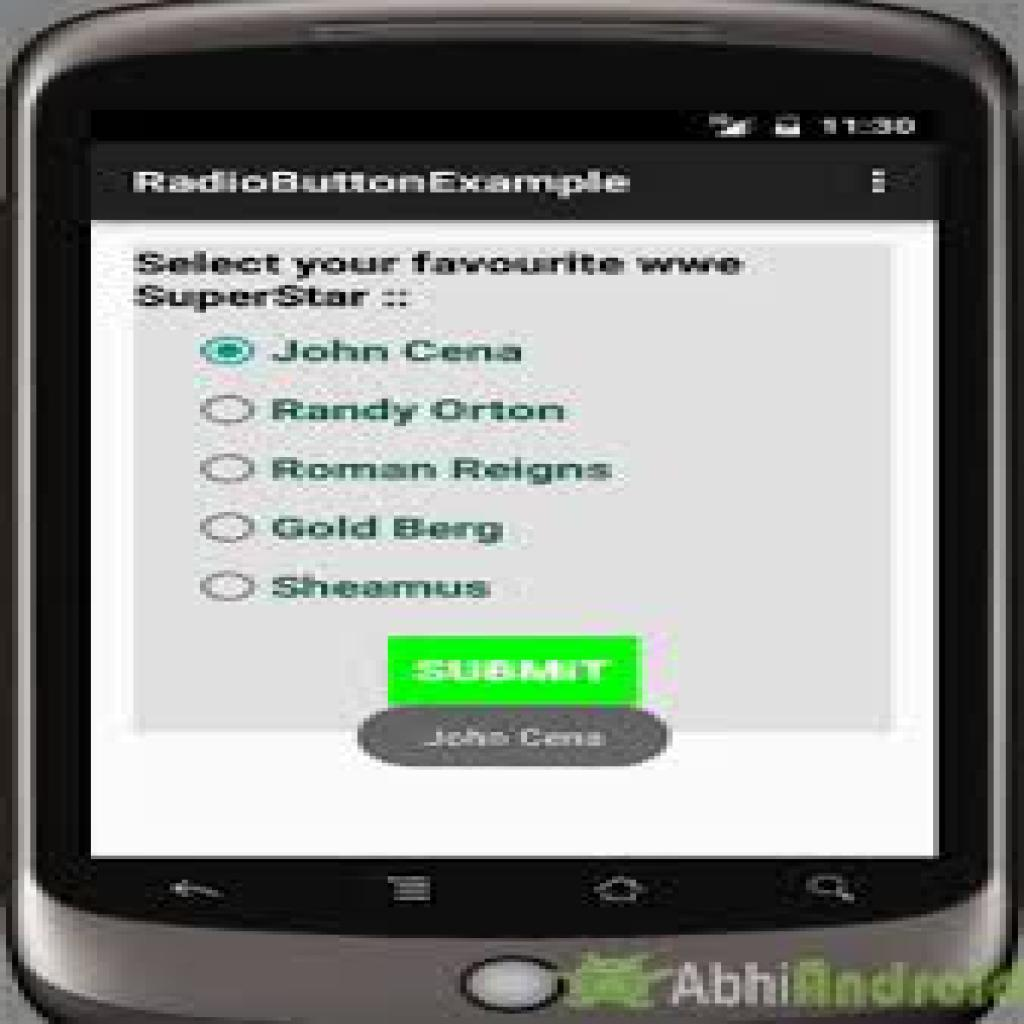button: (390, 638, 643, 708)
radio: (198, 449, 264, 487), (203, 502, 261, 543), (200, 333, 260, 371), (201, 572, 261, 605), (203, 394, 258, 427)
